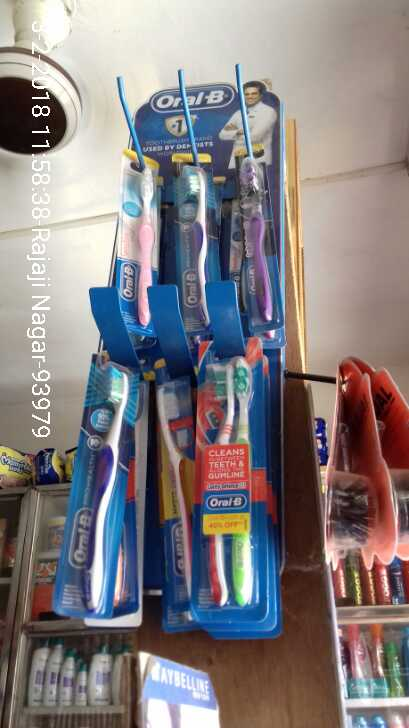oralb: (189, 335, 277, 624), (82, 352, 150, 629), (112, 145, 164, 337), (233, 141, 284, 329), (170, 152, 216, 334)
